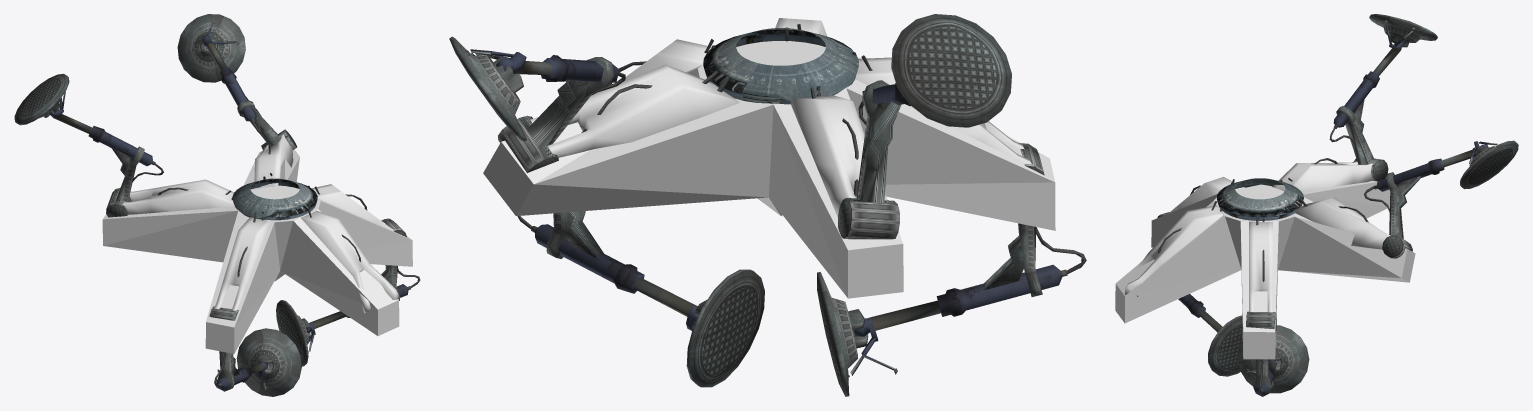
The model's file is LandingGearWad.fbx.
3 views of the same model, side by side, from view 1: azimuth 30°, elevation 25°; view 2: azimuth 150°, elevation 25°; view 3: azimuth 270°, elevation 25° (orthographic). The views are drawn at different scales.
Visible parts, largest first — view 1: LandingGearBodColMesh, LandingGearLegs_LOD0, LandingGearRibs, LandingGearBod; view 2: LandingGearLegs_LOD0, LandingGearBodColMesh, LandingGearRibs, LandingGearBod; view 3: LandingGearBodColMesh, LandingGearLegs_LOD0, LandingGearRibs, LandingGearBod.
Boxes of the visible parts, x1,y1,x2,y2 form: LandingGearBodColMesh: (102,149,412,353); LandingGearLegs_LOD0: (14,14,420,396); LandingGearRibs: (123,134,398,313); LandingGearBod: (232,178,317,220); LandingGearLegs_LOD0: (449,14,1086,396); LandingGearBodColMesh: (483,41,1055,298); LandingGearRibs: (530,18,1031,217); LandingGearBod: (703,28,858,104); LandingGearBodColMesh: (1115,181,1415,359); LandingGearLegs_LOD0: (1157,14,1518,396); LandingGearRibs: (1124,161,1390,312); LandingGearBod: (1216,178,1303,220).
Size of what is drawn, in the model's own units: 2296 by 1910 by 2345.
